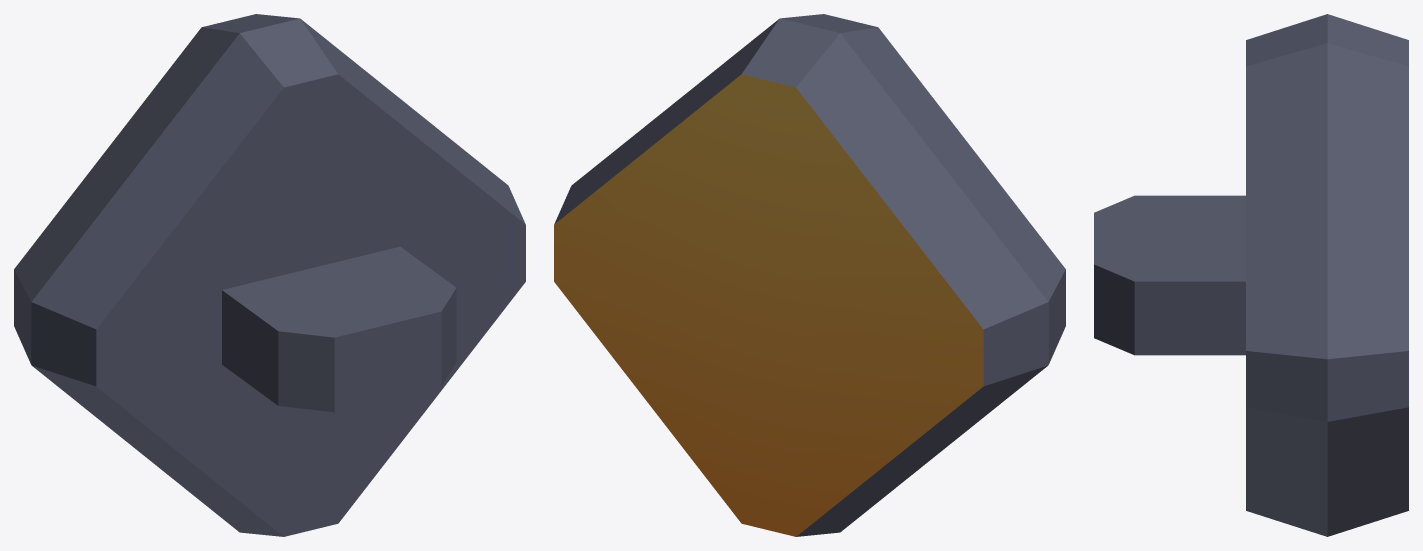
The model's file is road-sign-object-warning.glb.
3 renders of one model, left to right at view 1: azimuth 30°, elevation 25°; view 2: azimuth 150°, elevation 25°; view 3: azimuth 270°, elevation 25°, orthographic.
Visible parts, largest first — view 1: geometry_0; view 2: geometry_0; view 3: geometry_0.
Part boxes in pixels (x1=…): geometry_0: x1=14, y1=14, x2=525, y2=536; geometry_0: x1=554, y1=14, x2=1065, y2=536; geometry_0: x1=1094, y1=14, x2=1408, y2=536.
Bounding box in the file's own units: 1.08 × 1.08 × 0.6243.
